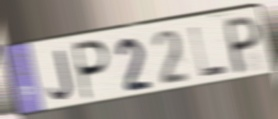2: (113, 33, 156, 96), (152, 28, 190, 88)
J: (47, 48, 74, 102)
L: (188, 25, 229, 80)
P: (73, 38, 112, 103), (225, 13, 263, 76)
